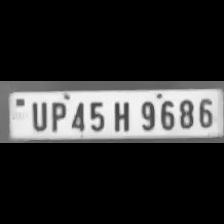4: (68, 99, 86, 131)
5: (86, 98, 106, 132)
6: (157, 97, 175, 130), (196, 96, 214, 128)
8: (176, 96, 194, 130)
9: (136, 97, 156, 130)
H: (108, 98, 134, 132)
P: (47, 98, 67, 132)
U: (28, 99, 48, 130)
